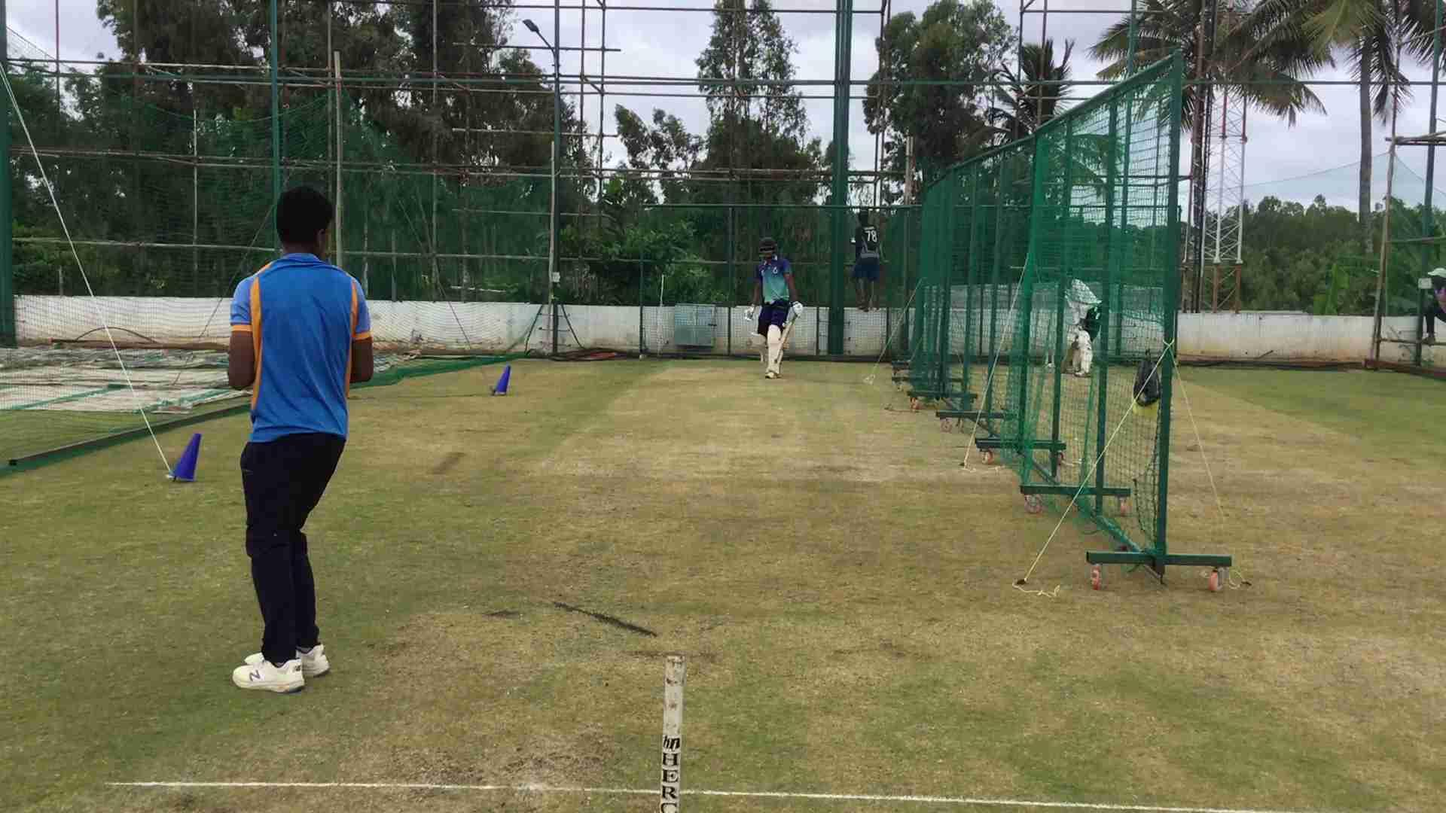batsman: (743, 228, 807, 380)
